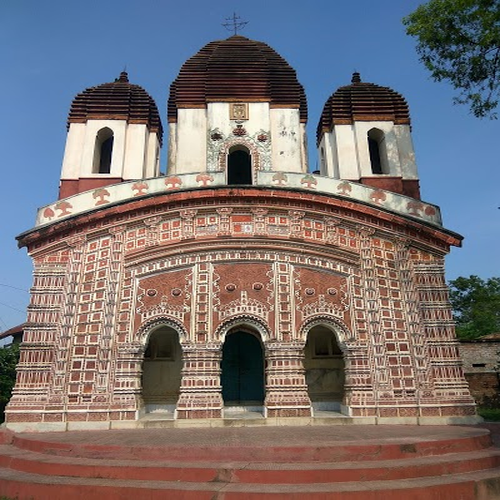Temple: (14, 31, 471, 420)
